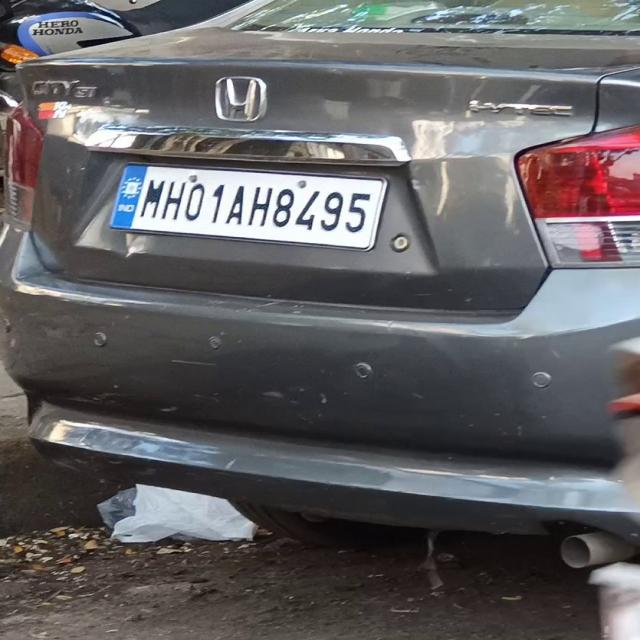license_plate: (108, 155, 394, 256)
